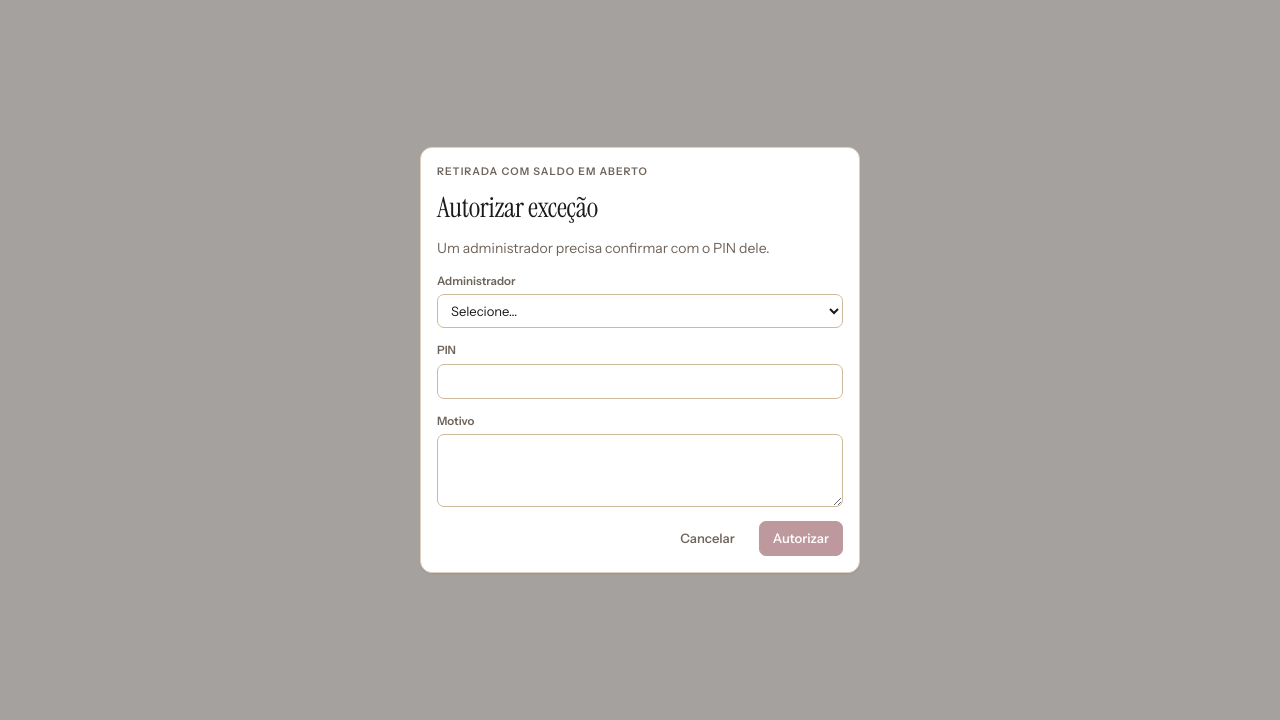
Test case: AuthorizeExceptionDialog › PIN_BLOQUEADO (retornado) → bloqueado, aguardar ou a administradora redefinir
This screenshot has width=1280, height=720.
Select "Carla Dias (carla@senzi.com.br)" in the dropdown labelled "Administrador": (640, 311) [437,294,843,328]
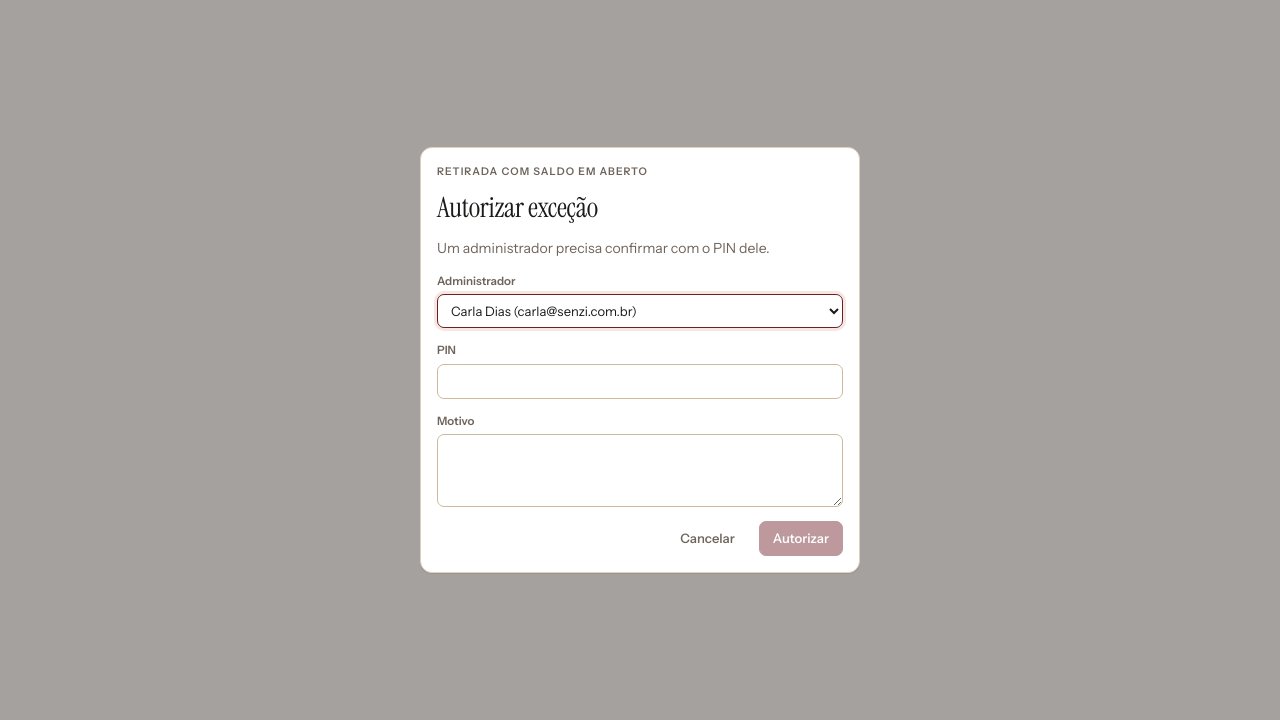
In the password field labelled "PIN": (640, 381) [437,364,843,399], type "4321"
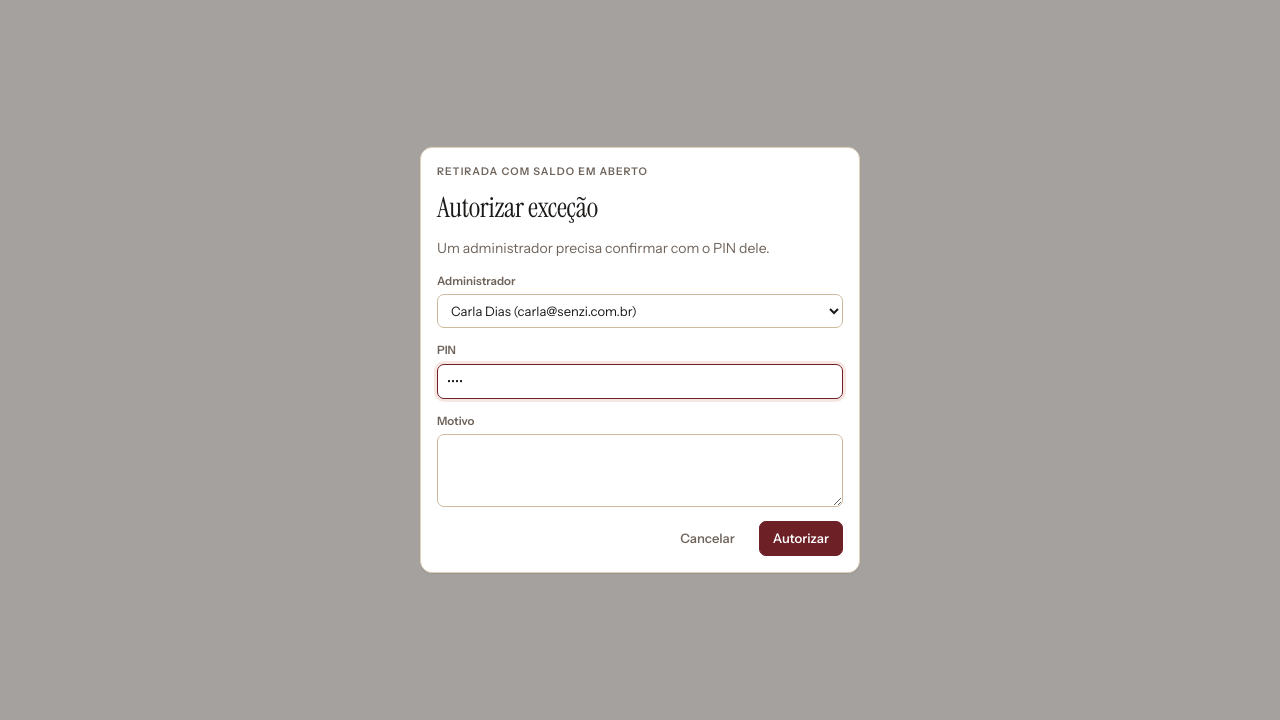
In the text box labelled "Motivo": (640, 471) [437,434,843,507], type "Cliente antiga, paga na devolução"
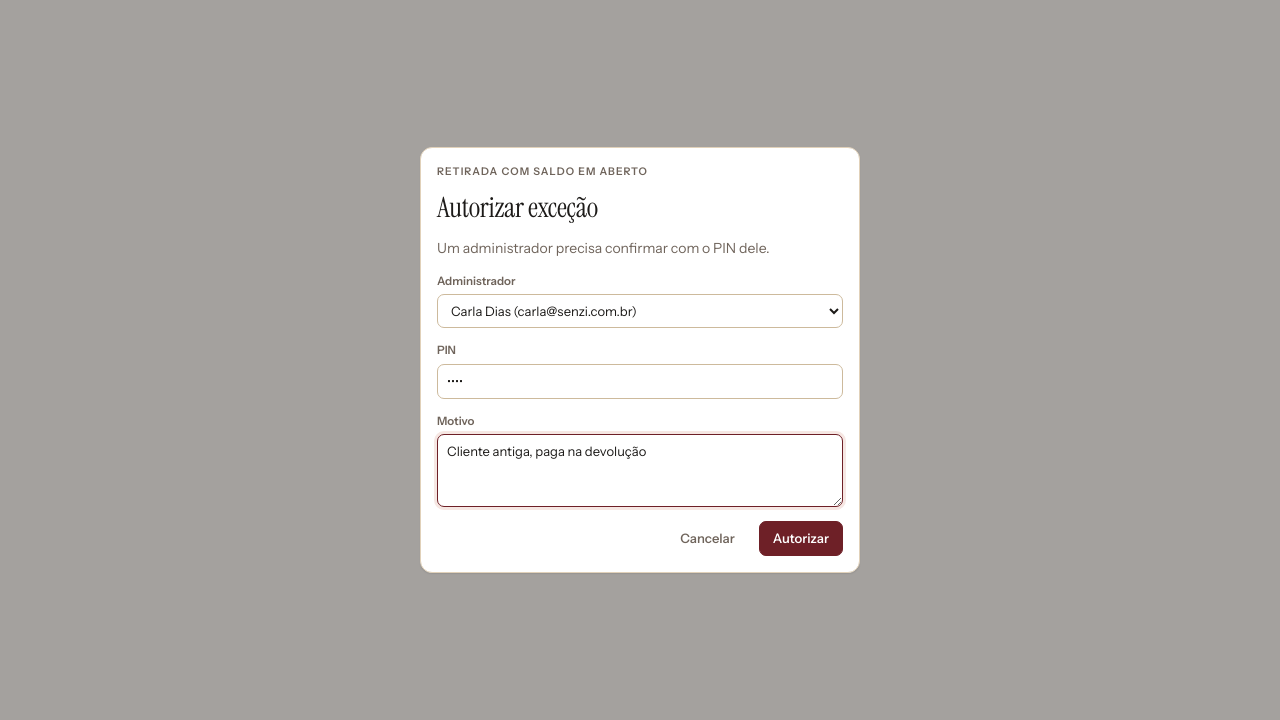
Click the button "Autorizar": click(801, 539) [759,521,843,556]
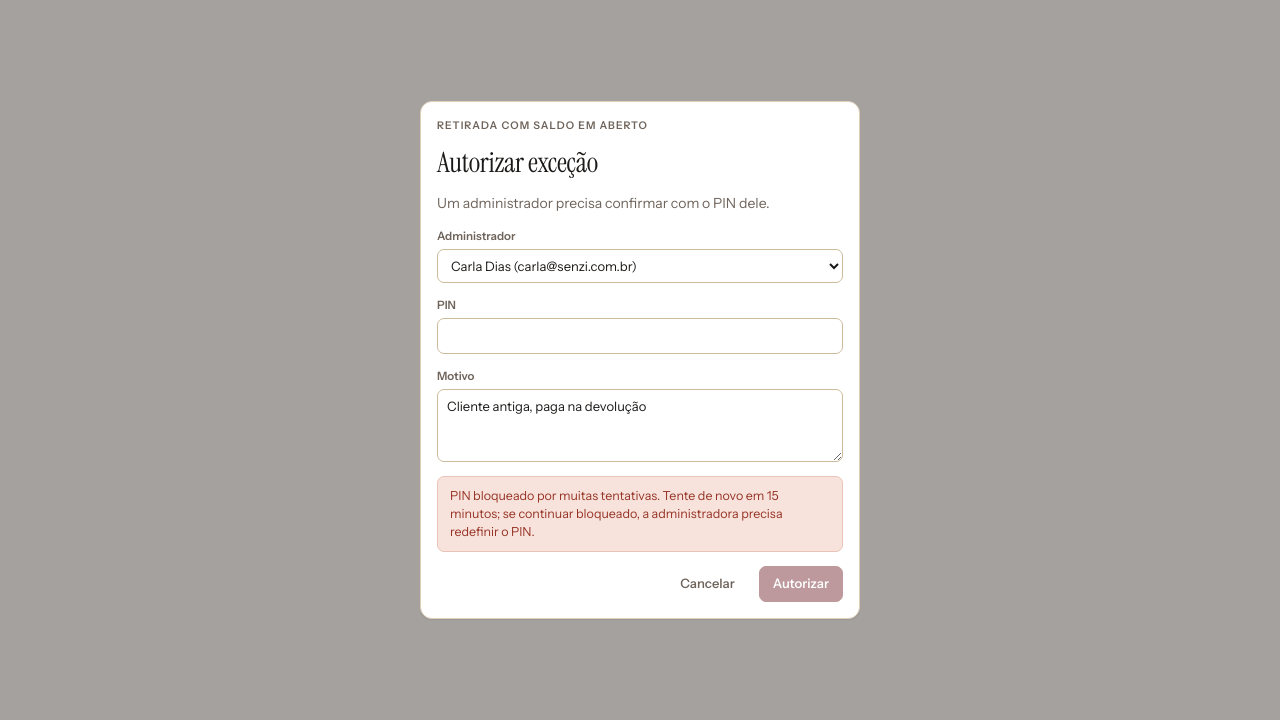
Expected: the text "PIN bloqueado por muitas tentativas. Tente de novo em 15 minutos; se continuar bloqueado, a administradora precisa redef" is shown, [450,488,783,539]
